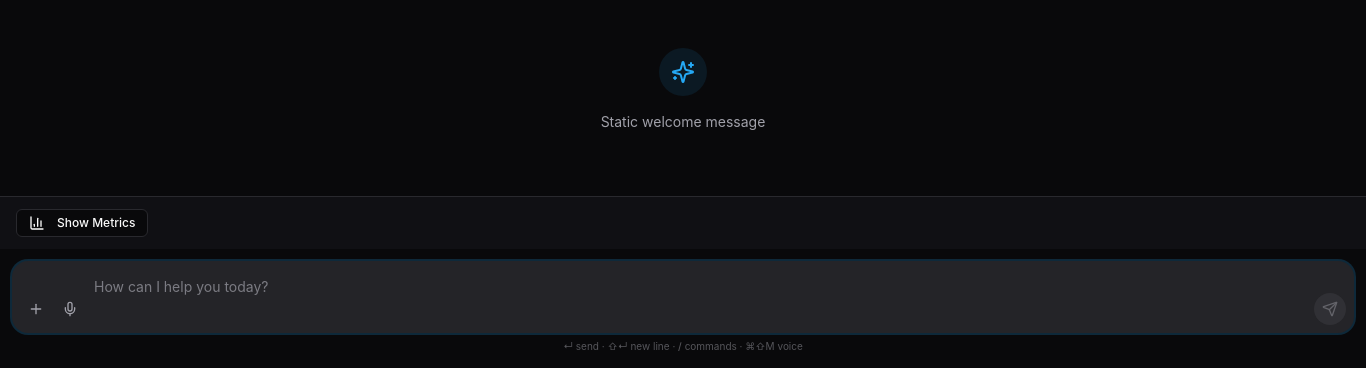
Test: AIChat quick-action provenance › marks a rendered quick-action click with its trusted source and action ID
Click the button "Show Metrics": (82, 223) [16,209,148,237]
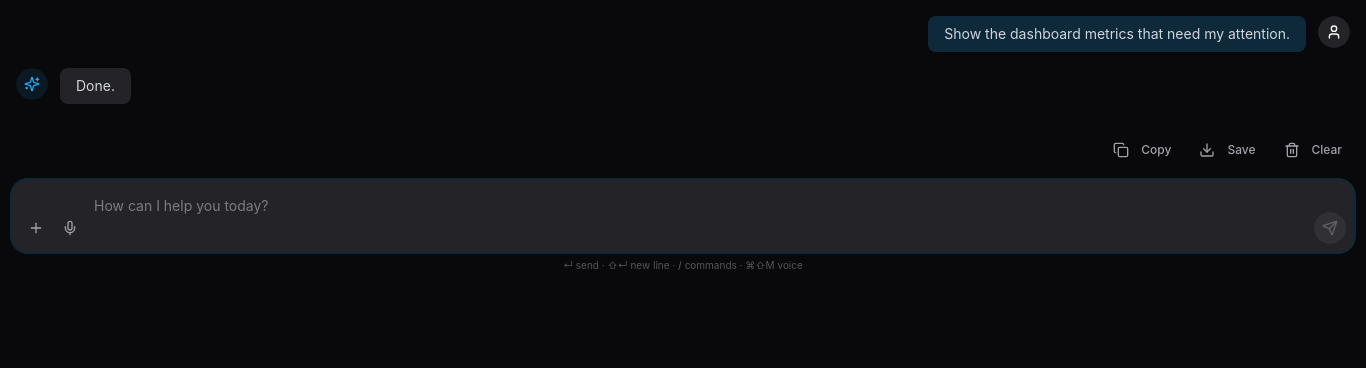
Expected: the text "Show the dashboard metrics that need my attention." is shown, [944,24,1290,44]
